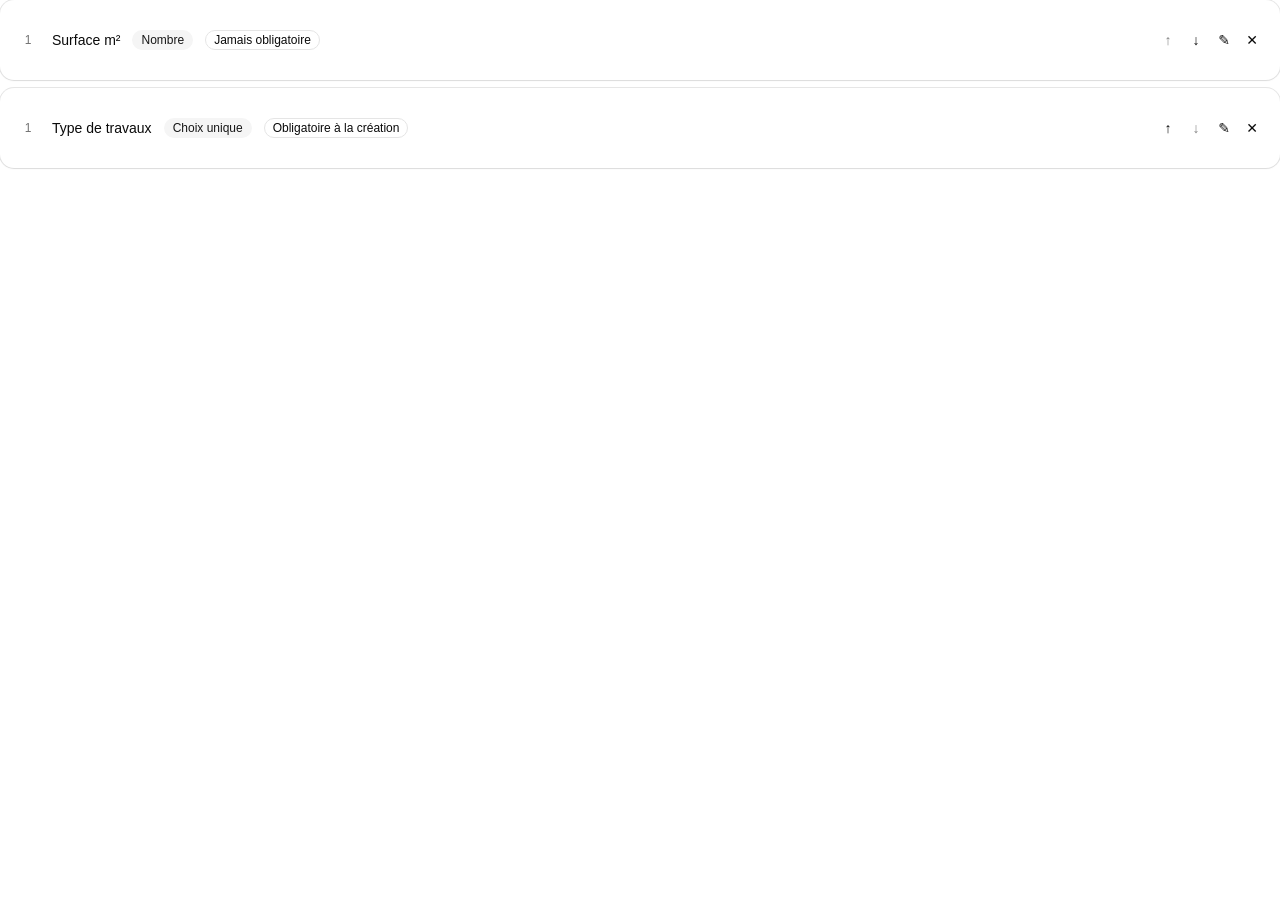
Scenario: CustomFieldList › shows delete confirmation dialog
Click the button named "Supprimer" at (1252,40), box top-left (1240, 28), bottom-right (1264, 52)
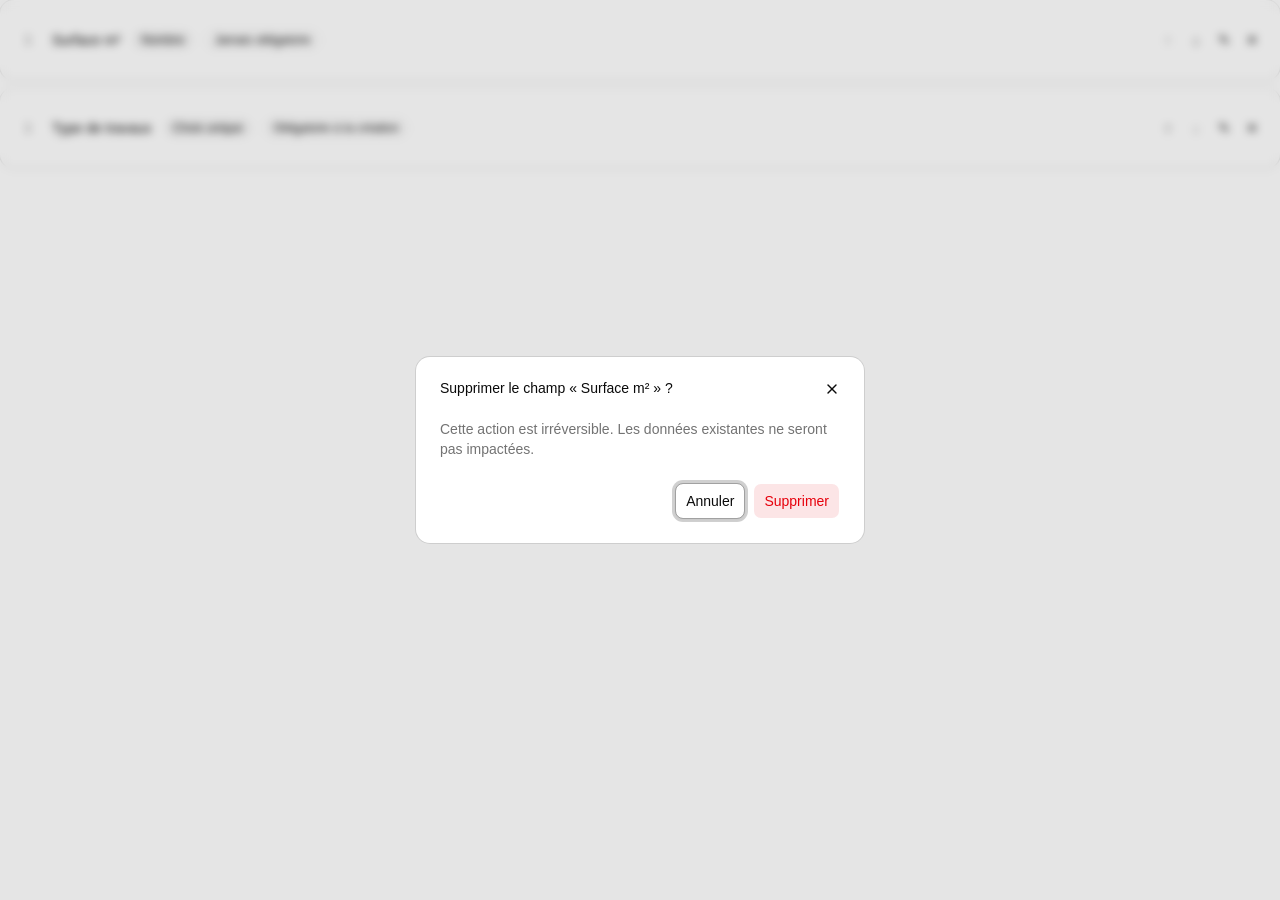
Now the heading "Supprimer le champ « Surface m² » ?" is shown, box top-left (440, 380), bottom-right (673, 396)
